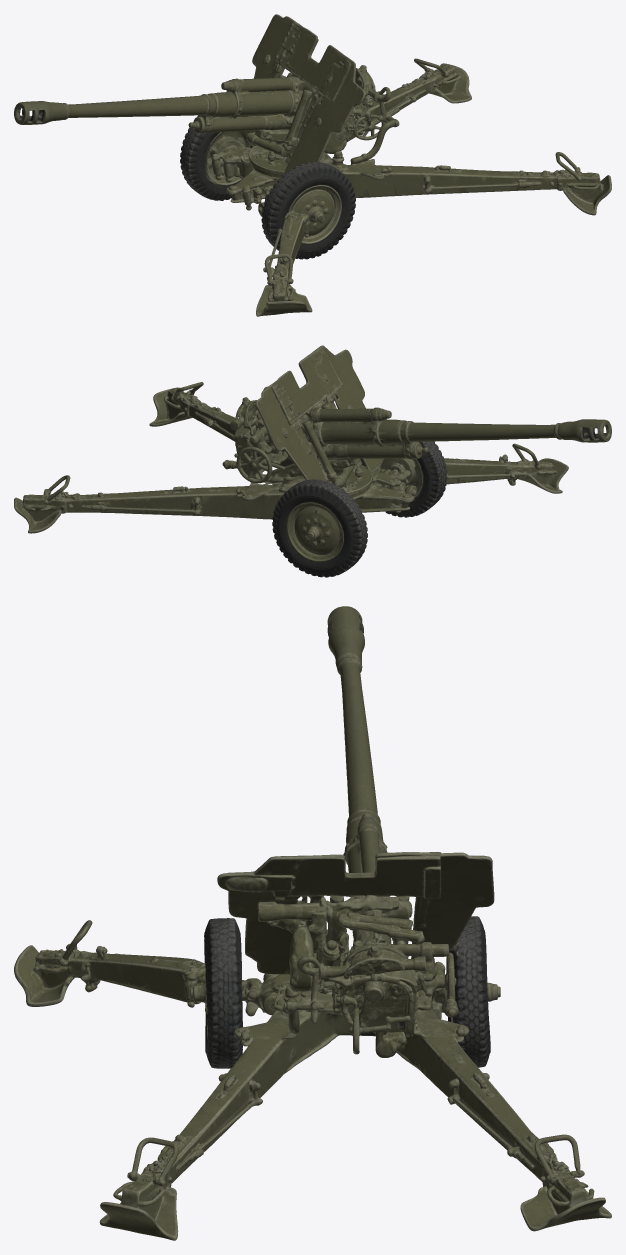
3 views of the same model, one above another, from view 1: azimuth 30°, elevation 25°; view 2: azimuth 150°, elevation 25°; view 3: azimuth 270°, elevation 25° (orthographic). The views are drawn at different scales.
Bounding box in the file's own units: 1.9 × 0.6362 × 1.25.
Materials: 1 (1 with a texture image).
